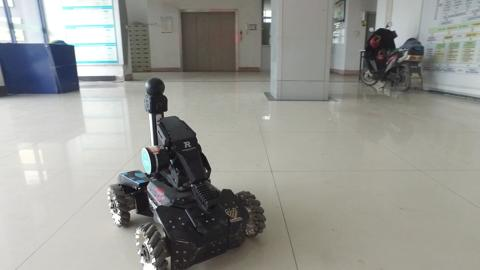chariot: (61, 65, 289, 270)
